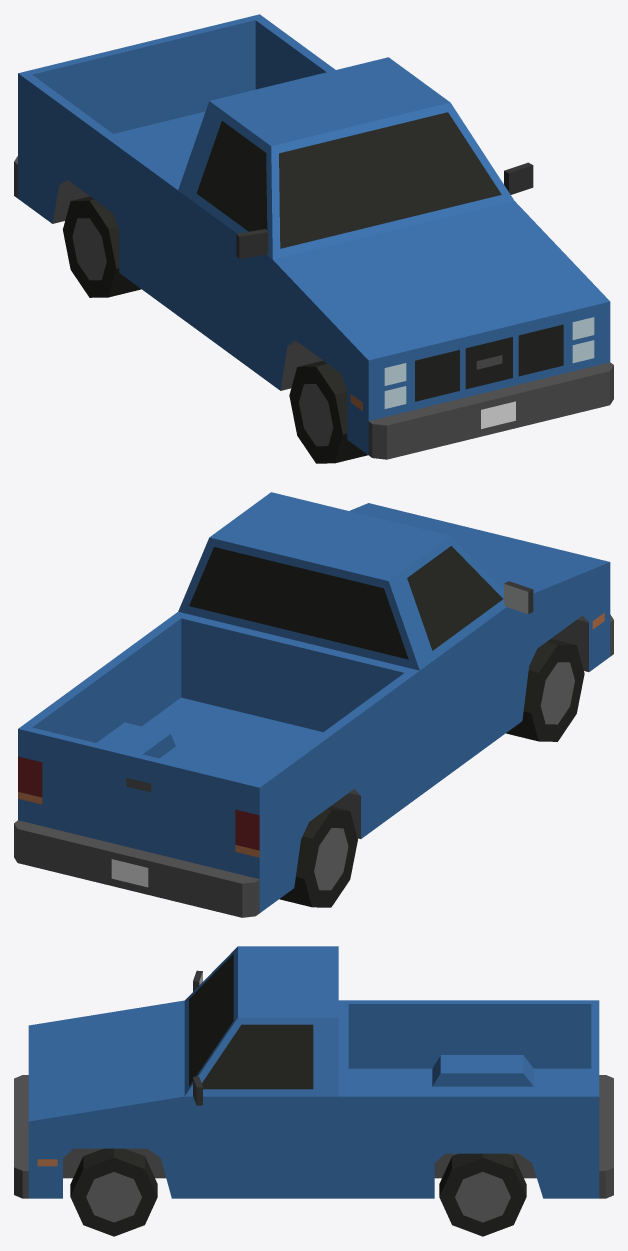
File: Veh_Pickup_02_Blue.glb
3 renders of one model, top to bottom at view 1: azimuth 30°, elevation 25°; view 2: azimuth 150°, elevation 25°; view 3: azimuth 270°, elevation 25°, orthographic. The views are drawn at different scales.
Parts seen in each view (by area): view 1: Pickup_02_Blue, Wheel_FR, Wheel_RR; view 2: Pickup_02_Blue, Wheel_FR, Wheel_RR; view 3: Pickup_02_Blue, Wheel_FL, Wheel_RL.
Boxes of the visible parts, x1=… form: Pickup_02_Blue: x1=14, y1=14, x2=613, y2=459; Wheel_FR: x1=289, y1=360, x2=367, y2=463; Wheel_RR: x1=62, y1=196, x2=141, y2=297; Pickup_02_Blue: x1=14, y1=492, x2=613, y2=917; Wheel_FR: x1=506, y1=639, x2=584, y2=741; Wheel_RR: x1=279, y1=806, x2=357, y2=907; Pickup_02_Blue: x1=14, y1=946, x2=613, y2=1198; Wheel_FL: x1=70, y1=1148, x2=157, y2=1236; Wheel_RL: x1=439, y1=1153, x2=526, y2=1236.
Bounding box in the file's own units: 1.43 × 1.18 × 3.11.
1 material, 1 textured.
